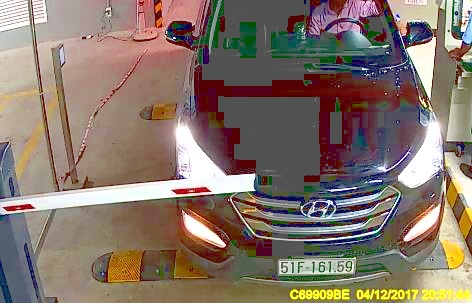plate: (274, 250, 359, 281)
